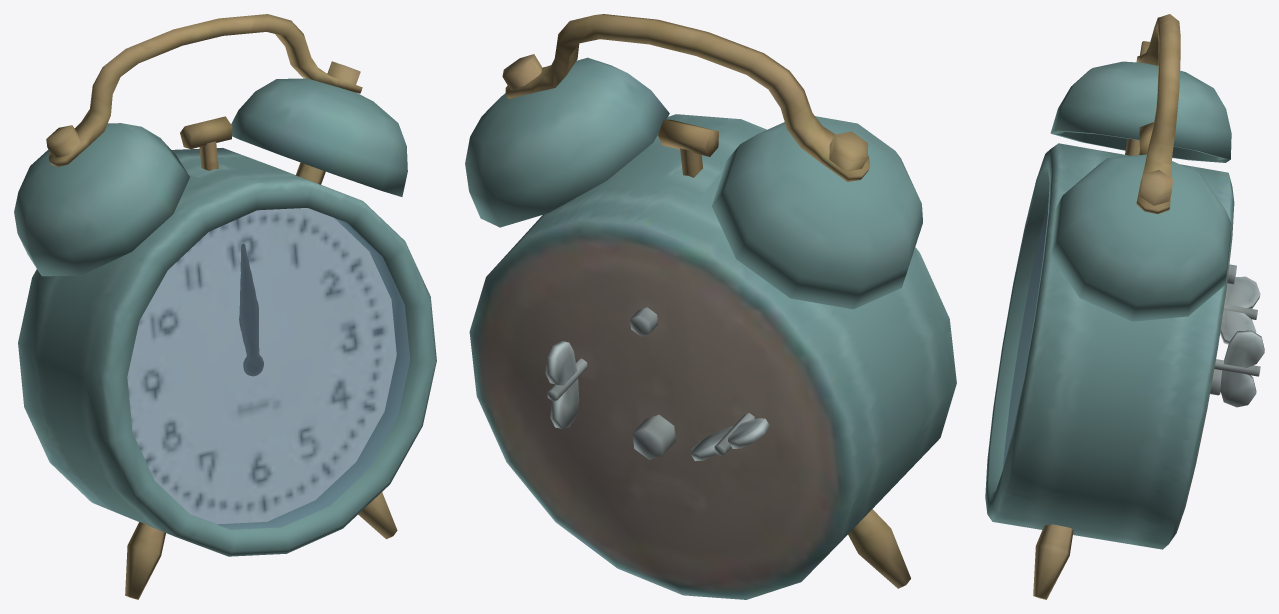
3 renders of one model, left to right at view 1: azimuth 30°, elevation 25°; view 2: azimuth 150°, elevation 25°; view 3: azimuth 270°, elevation 25°, orthographic. The views are drawn at different scales.
Bounding box in the file's own units: 4.84 × 6.23 × 3.18.
3 materials, 2 textured.
